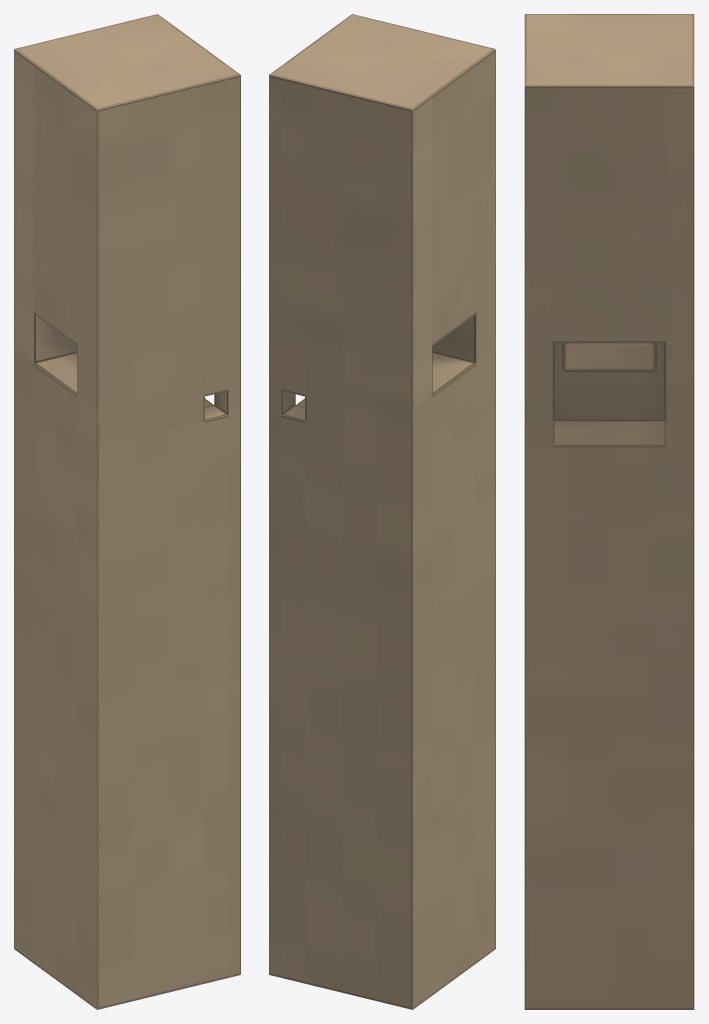
3 renders of one model, left to right at view 1: azimuth 30°, elevation 25°; view 2: azimuth 150°, elevation 25°; view 3: azimuth 270°, elevation 25°, orthographic. The views are drawn at different scales.
Parts seen in each view (by area): view 1: part-a; view 2: part-a; view 3: part-a.
Boxes of the visible parts, x1=… form: part-a: x1=14, y1=14, x2=240, y2=1009; part-a: x1=269, y1=14, x2=495, y2=1009; part-a: x1=524, y1=14, x2=694, y2=1009.
Bounding box in the file's own units: 0.1208 × 0.7208 × 0.1208.
